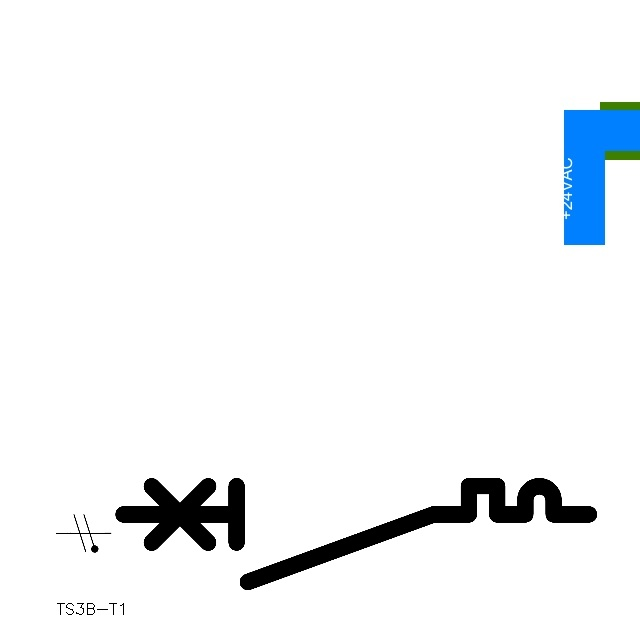interruptor_termomagnetico: (111, 474, 600, 593)
